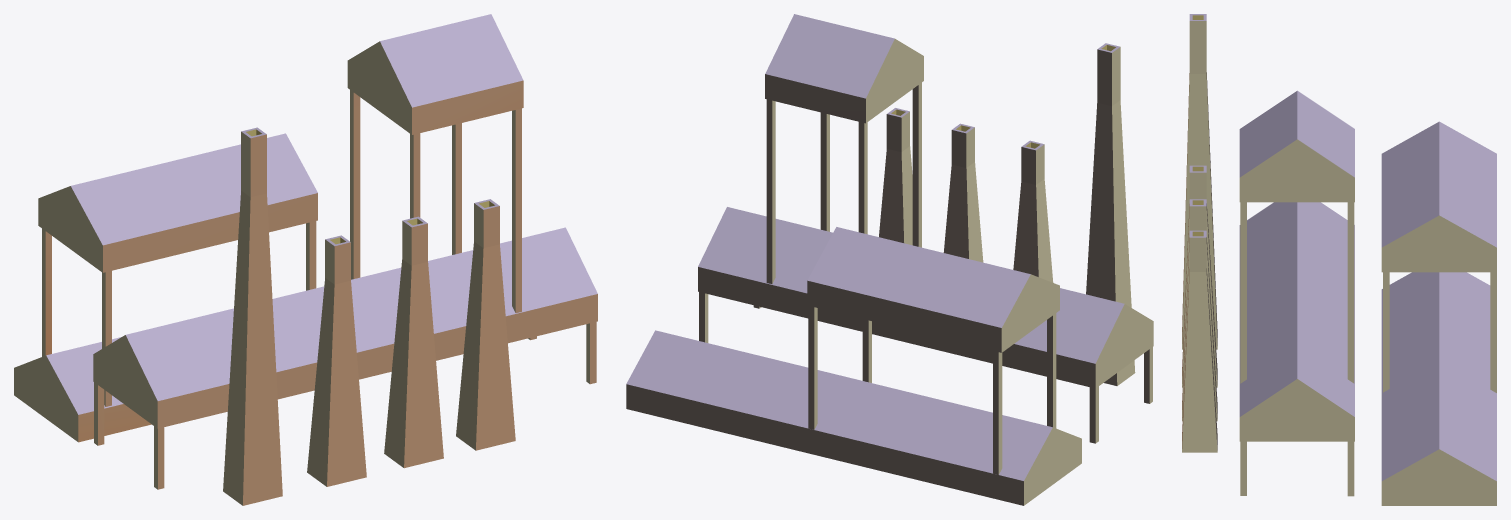
File: intensivelivestock.glb
The picture shows the model from 3 angles, left to right: view 1: azimuth 30°, elevation 25°; view 2: azimuth 150°, elevation 25°; view 3: azimuth 270°, elevation 25°; orthographic projection. The views are drawn at different scales.
Parts seen in each view (by area): view 1: Cube.013; view 2: Cube.013; view 3: Cube.013.
Part boxes in pixels (x1,y1,x2,y2): Cube.013: [14, 14, 597, 505]; Cube.013: [626, 14, 1153, 505]; Cube.013: [1182, 14, 1496, 505].
Bounding box in the file's own units: 2.52 × 2.04 × 1.74.
